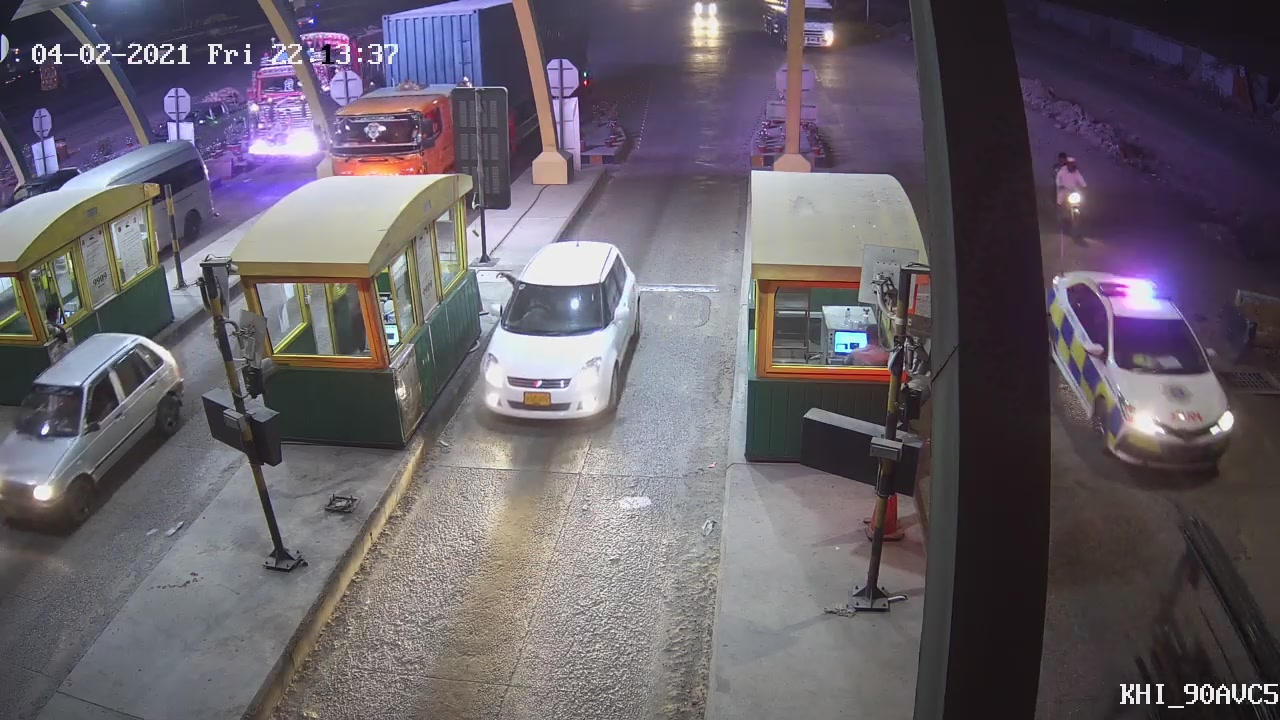F1: (475, 233, 648, 427)
